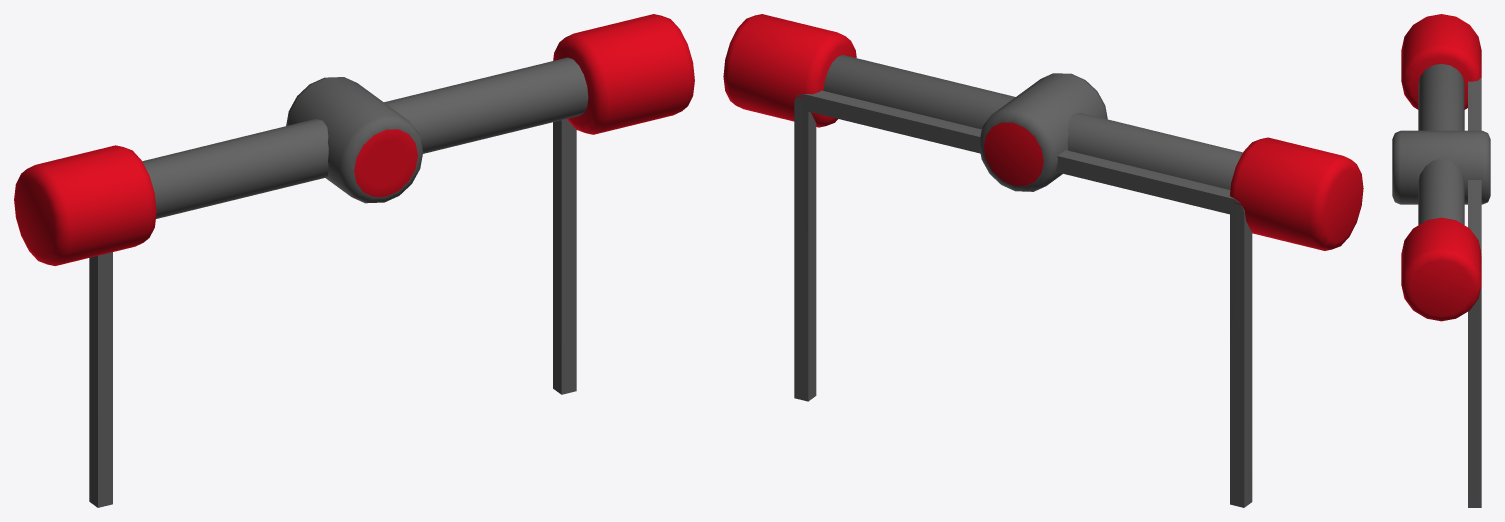
The model's file is obstacle 2.fbx.
3 views of the same model, side by side, from view 1: azimuth 30°, elevation 25°; view 2: azimuth 150°, elevation 25°; view 3: azimuth 270°, elevation 25° (orthographic). The views are drawn at different scales.
Visible parts, largest first — view 1: obstacle2.2, obstacle2; view 2: obstacle2.2, obstacle2; view 3: obstacle2.2, obstacle2.
Boxes of the visible parts, box(x1,y1,x2,y2) form: obstacle2.2: box(14, 14, 694, 265); obstacle2: box(89, 119, 576, 507); obstacle2.2: box(723, 14, 1363, 250); obstacle2: box(794, 90, 1252, 507); obstacle2.2: box(1392, 14, 1490, 321); obstacle2: box(1468, 78, 1481, 507).
Size of the model in its own units: 564 by 312 by 96.83.
